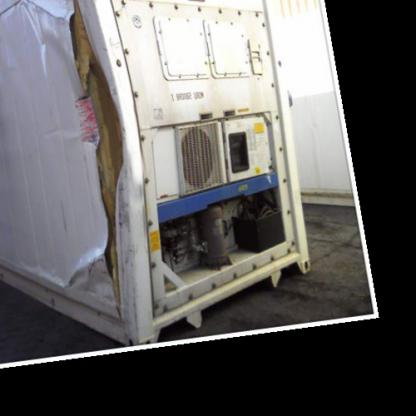Damage: (53, 8, 185, 322)
